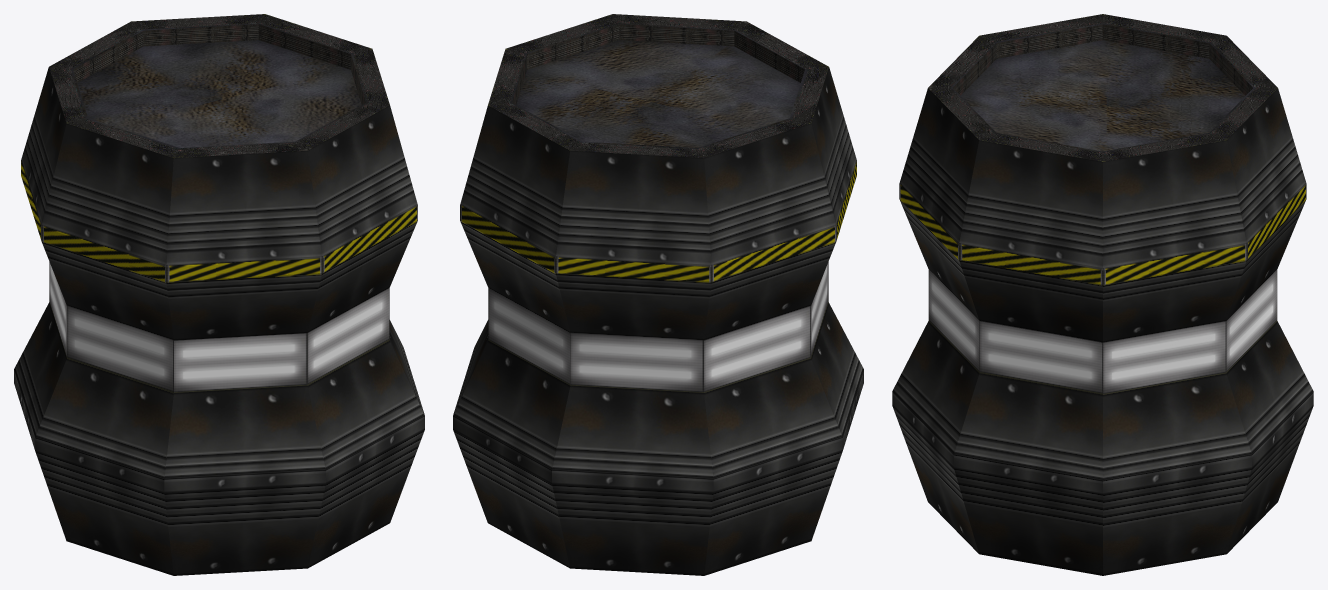
Rendered from bure2.obj.
3 renders of one model, left to right at view 1: azimuth 30°, elevation 25°; view 2: azimuth 150°, elevation 25°; view 3: azimuth 270°, elevation 25°, orthographic.
Visible parts, largest first — view 1: MSH_cylind; view 2: MSH_cylind; view 3: MSH_cylind.
Boxes of the visible parts, left/top/right/bottom form: MSH_cylind: left=14, top=14, right=424, bottom=575; MSH_cylind: left=453, top=14, right=863, bottom=575; MSH_cylind: left=892, top=14, right=1313, bottom=575.
Bounding box in the file's own units: 3.69 × 4 × 3.69.
1 material, 1 textured.
